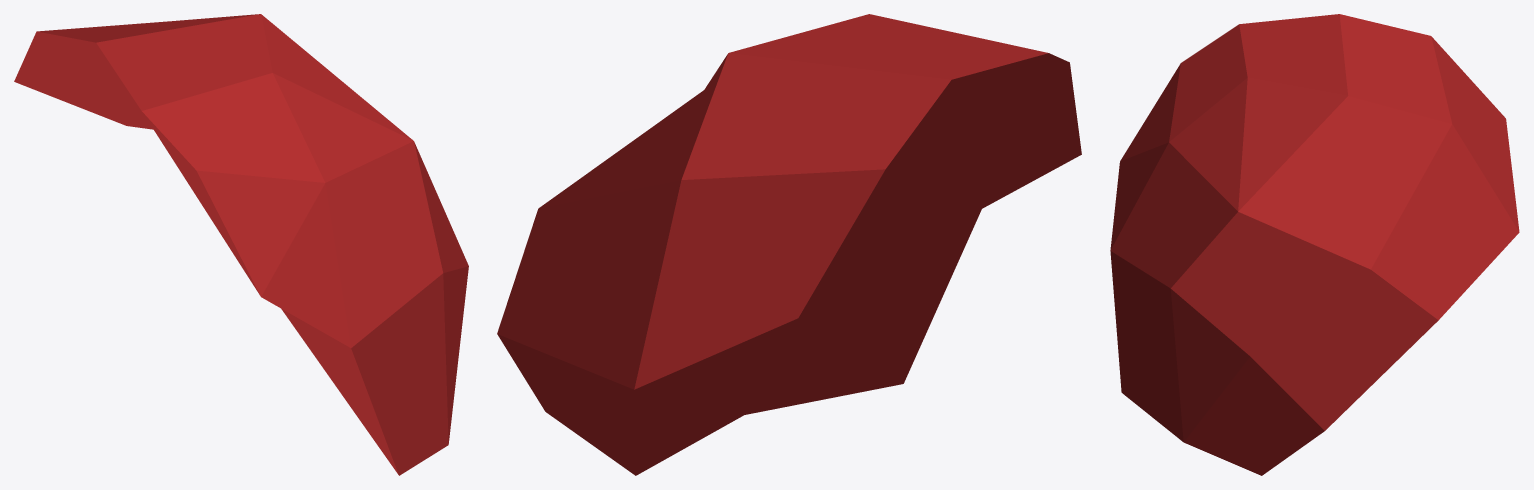
File: piece_heart.fbx
The picture shows the model from 3 angles, left to right: view 1: azimuth 30°, elevation 25°; view 2: azimuth 150°, elevation 25°; view 3: azimuth 270°, elevation 25°; orthographic projection. The views are drawn at different scales.
Parts seen in each view (by area): view 1: piece_heart; view 2: piece_heart; view 3: piece_heart.
Part boxes in pixels (x1,y1,x2,y2): piece_heart: (14, 14, 468, 475); piece_heart: (497, 14, 1081, 475); piece_heart: (1110, 14, 1519, 475).
Size of the model in its own units: 0.5658 by 0.6578 by 0.71.
